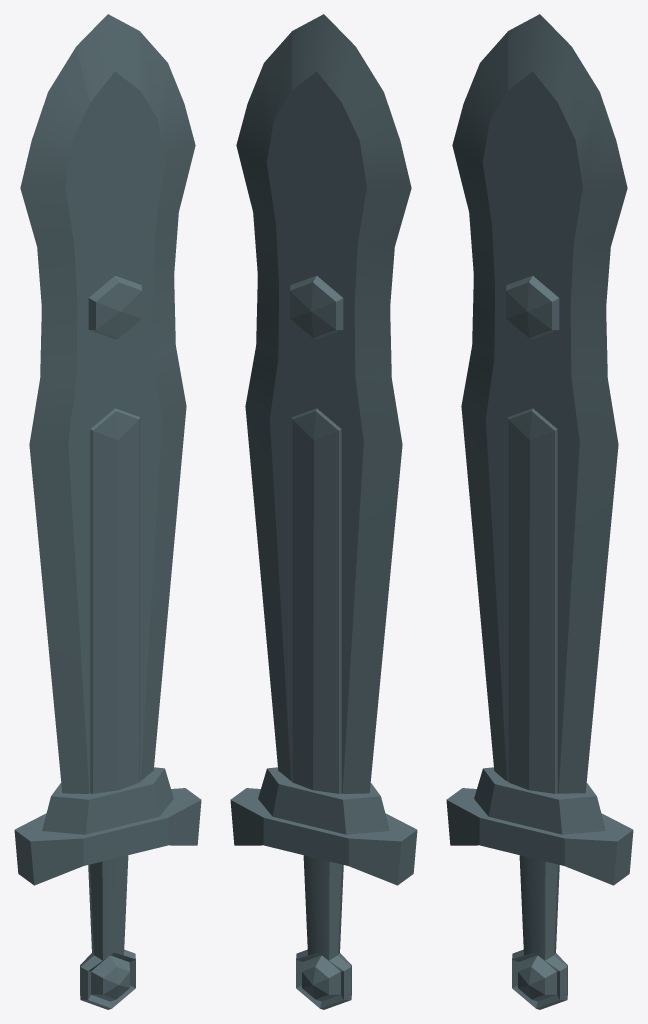
File: Knight_Sword_Final.fbx
3 views of the same model, side by side, from view 1: azimuth 30°, elevation 25°; view 2: azimuth 150°, elevation 25°; view 3: azimuth 330°, elevation 25° (orthographic).
Parts seen in each view (by area): view 1: KnightSword_Low; view 2: KnightSword_Low; view 3: KnightSword_Low.
Boxes of the visible parts, box(x1,y1,x2,y2) form: KnightSword_Low: box(14, 14, 201, 1009); KnightSword_Low: box(230, 14, 417, 1009); KnightSword_Low: box(446, 14, 633, 1009).
Size of the model in its own units: 22.93 by 124 by 8.04.
